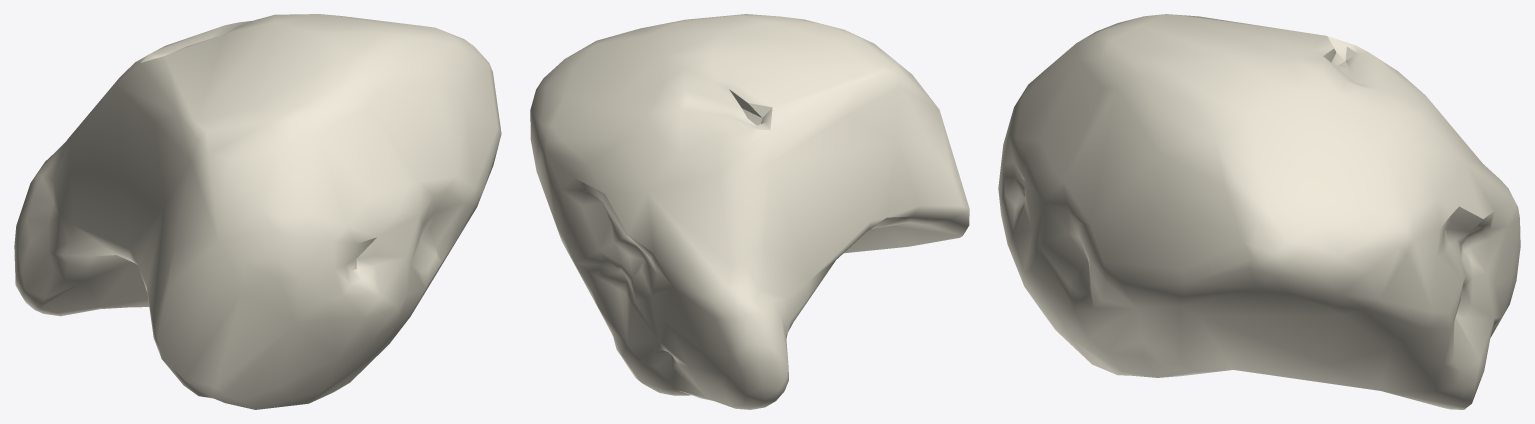
File: fma24437.glb
The picture shows the model from 3 angles, left to right: view 1: azimuth 30°, elevation 25°; view 2: azimuth 150°, elevation 25°; view 3: azimuth 270°, elevation 25°; orthographic projection. The views are drawn at different scales.
Parts seen in each view (by area): view 1: FMA24437; view 2: FMA24437; view 3: FMA24437.
Part boxes in pixels (bbox=[...]): FMA24437: bbox=[14, 14, 501, 409]; FMA24437: bbox=[530, 14, 969, 409]; FMA24437: bbox=[998, 14, 1520, 409].
Size of the model in its own units: 0.0167 by 0.013 by 0.0168.
